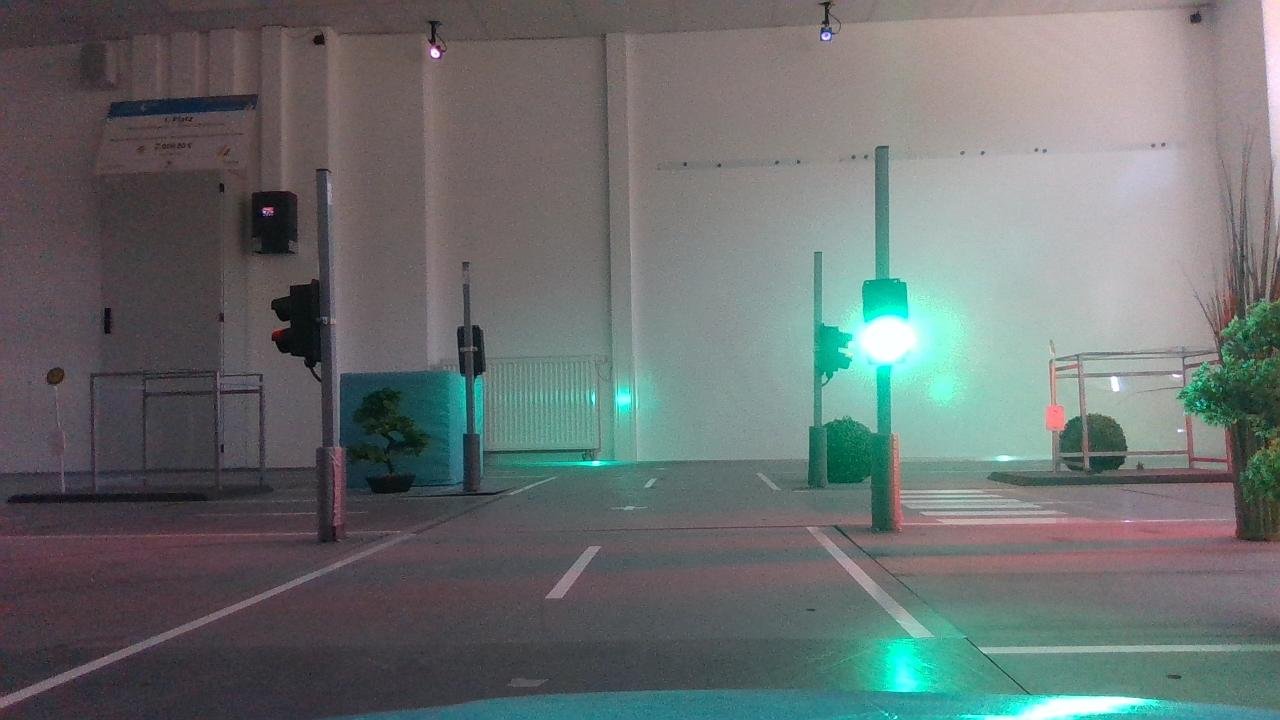traffic_light_green: (849, 269, 920, 366)
